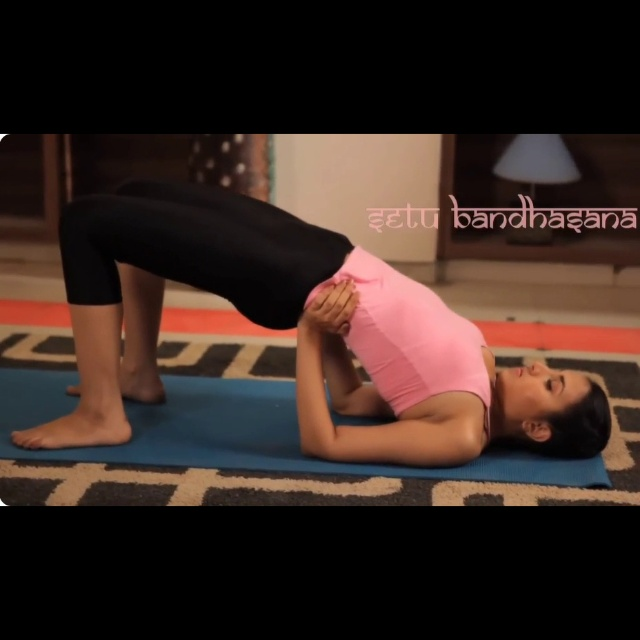Bridge_Pose: (5, 174, 617, 471)
